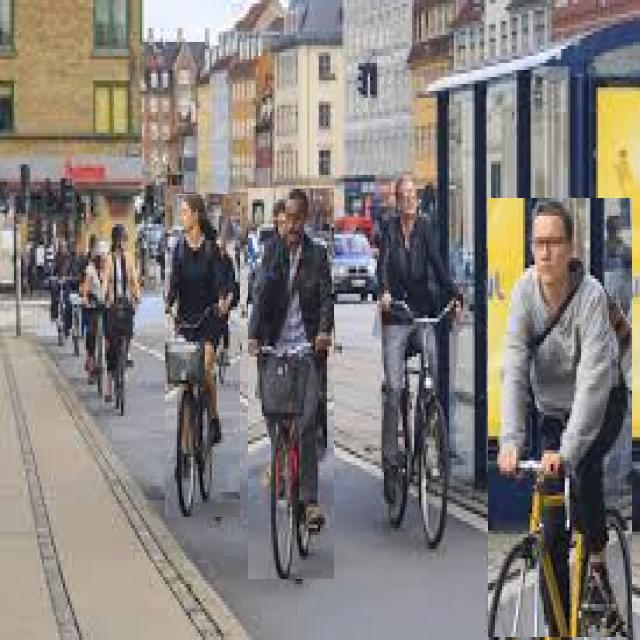bicycle: (489, 199, 632, 637), (249, 188, 334, 579), (377, 175, 463, 546), (165, 195, 240, 517)
